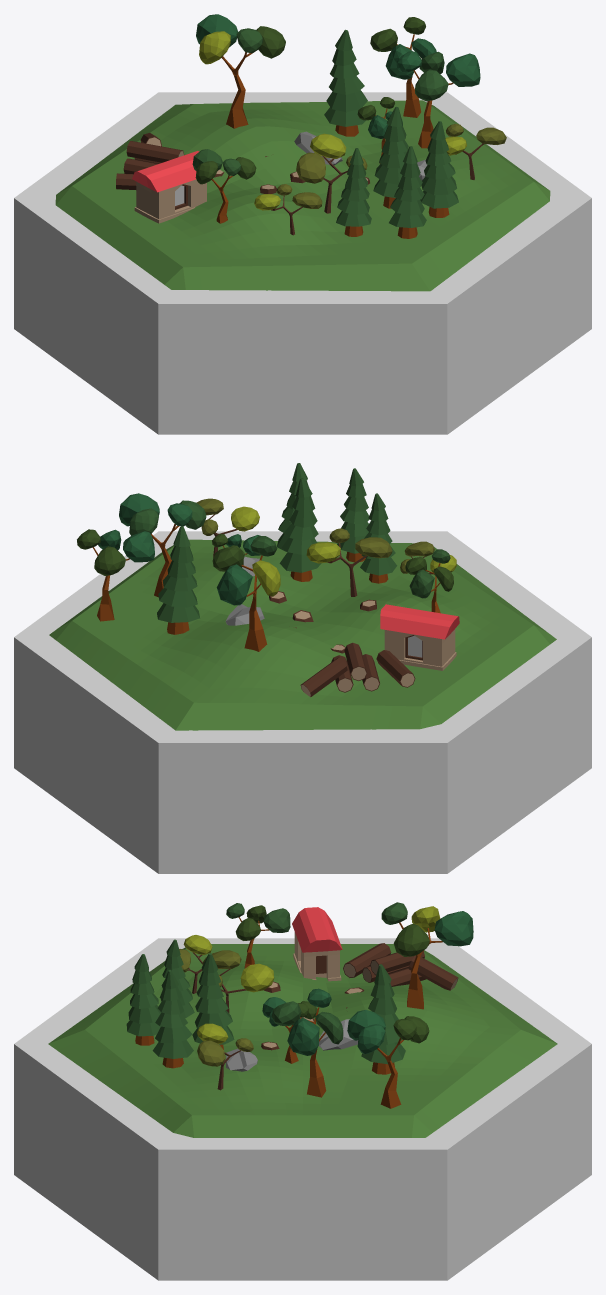
File: Forest.fbx
3 views of the same model, one above another, from view 1: azimuth 30°, elevation 25°; view 2: azimuth 150°, elevation 25°; view 3: azimuth 270°, elevation 25° (orthographic).
Visible parts, largest first — view 1: Base, Trees, Forest House, Tree, Tree.003, Tree 2.003, Tree 2, Tree.002, Tree 2.004, Tree 2.002, Tree 2.001, Tree 3 (+5 smaller); view 2: Base, Trees, Forest House, Tree, Tree 2.003, Tree.002, Tree.003, Tree 2.002, Tree 3, Tree 2.004, Tree.001, Tree 2.001 (+7 smaller); view 3: Base, Trees, Tree, Tree.003, Forest House, Tree.002, Tree 2, Tree 2.003, Tree 2.004, Tree 2.002, Tree.001, Tree 3.001 (+9 smaller).
Part boxes in pixels (x1,y1,x2,y2): Base: (14,92,591,434); Trees: (55,100,550,291); Forest House: (132,151,206,223); Tree: (196,14,285,128); Tree.003: (396,51,480,148); Tree 2.003: (324,29,367,136); Tree 2: (420,121,458,217); Tree.002: (370,17,436,117); Tree 2.004: (389,146,426,238); Tree 2.002: (373,106,408,208); Tree 2.001: (336,148,371,236); Tree 3: (296,133,367,213); Base: (14,531,591,873); Trees: (49,539,556,730); Forest House: (380,604,459,670); Tree: (212,536,280,651); Tree 2.003: (157,526,199,634); Tree.002: (77,529,154,621); Tree.003: (119,493,206,597); Tree 2.002: (279,478,321,581); Tree 3: (306,528,392,596); Tree 2.004: (337,468,369,562); Tree.001: (405,549,453,613); Tree 2.001: (360,493,397,583); Base: (14,938,591,1280); Trees: (48,944,557,1137); Tree: (381,902,473,1009); Tree.003: (271,988,343,1097); Forest House: (292,907,342,981); Tree.002: (347,1010,429,1108); Tree 2: (152,970,193,1068); Tree 2.003: (361,964,405,1074); Tree 2.004: (126,954,161,1045); Tree 2.002: (192,953,234,1049); Tree.001: (226,903,290,968); Tree 3.001: (197,1023,253,1090).
Size of the model in its own units: 1732 by 1019 by 2000.
